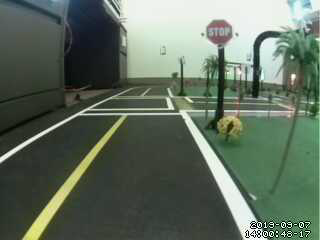Stop_Sign: (199, 14, 241, 51)
